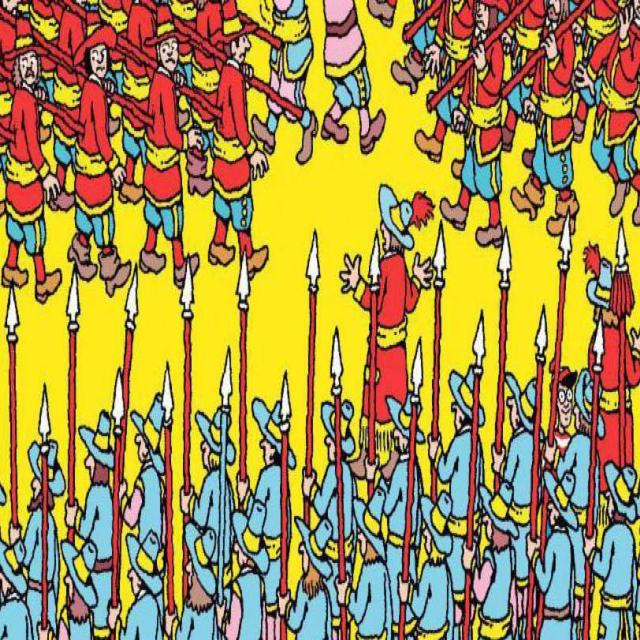waldo: (548, 356, 577, 429)
